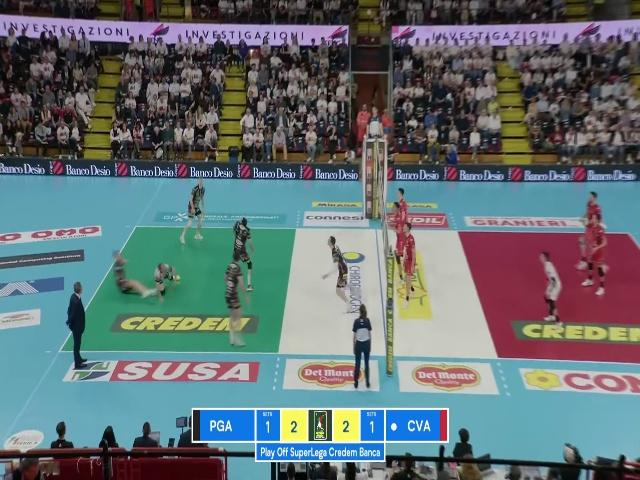volleyball court: (61, 227, 640, 363)
